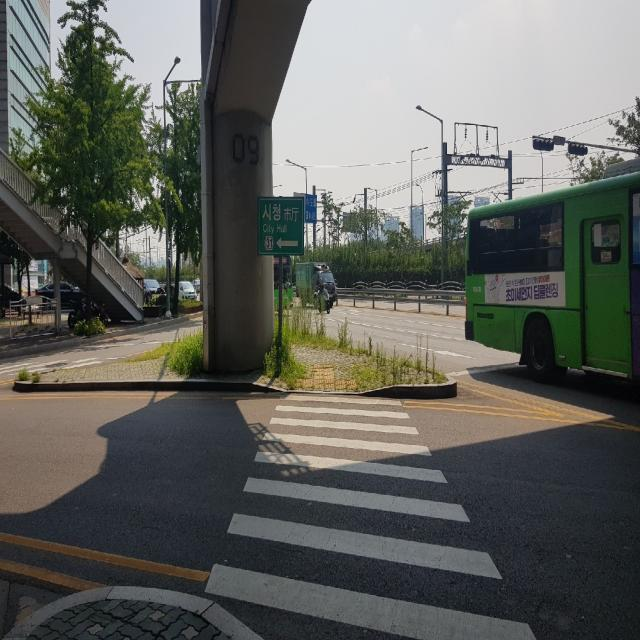횡단보도: (203, 388, 540, 640)
